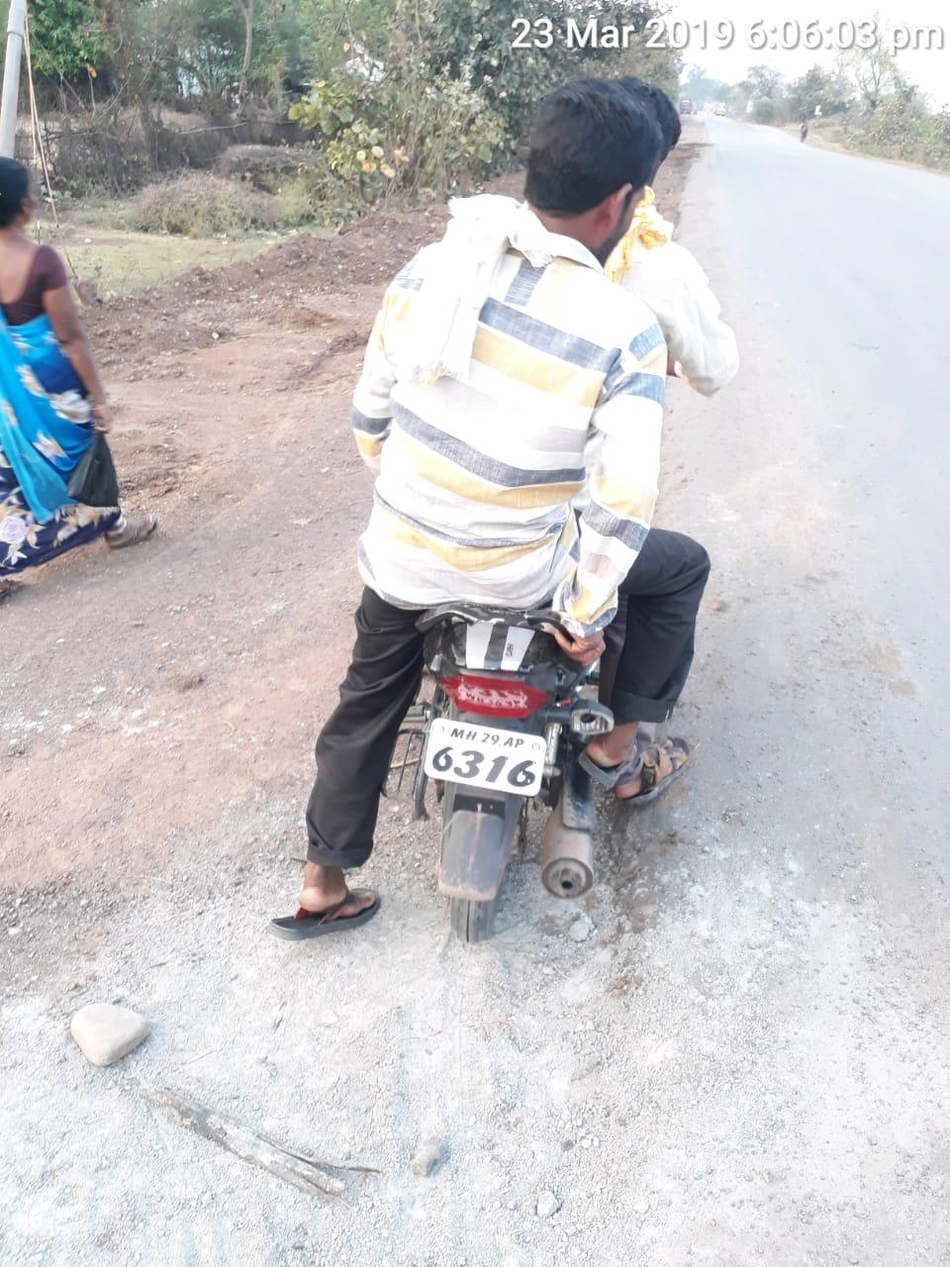plate: (412, 704, 561, 818)
